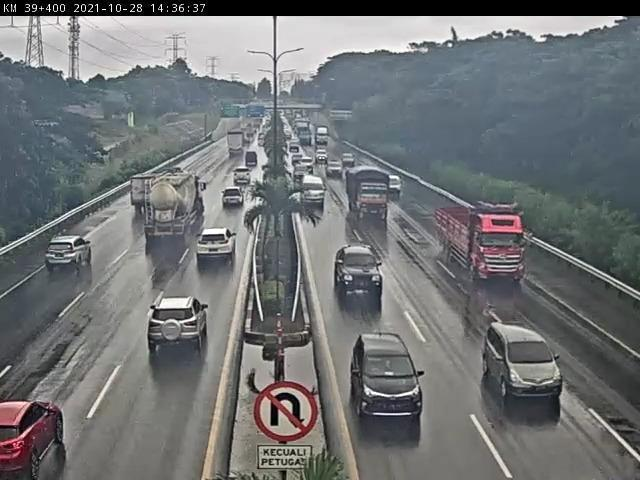car: (517, 408, 640, 479), (479, 312, 560, 398), (131, 295, 220, 365), (360, 338, 419, 418), (3, 395, 61, 469), (326, 244, 385, 303), (40, 225, 90, 273), (197, 223, 243, 272), (299, 176, 324, 206), (218, 196, 245, 218), (234, 167, 257, 191), (324, 160, 342, 179), (383, 169, 396, 195)
truck: (457, 196, 539, 283), (146, 180, 192, 251), (342, 174, 392, 217), (113, 182, 141, 221)
